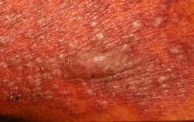SJS-TEN: (0, 0, 193, 114)
